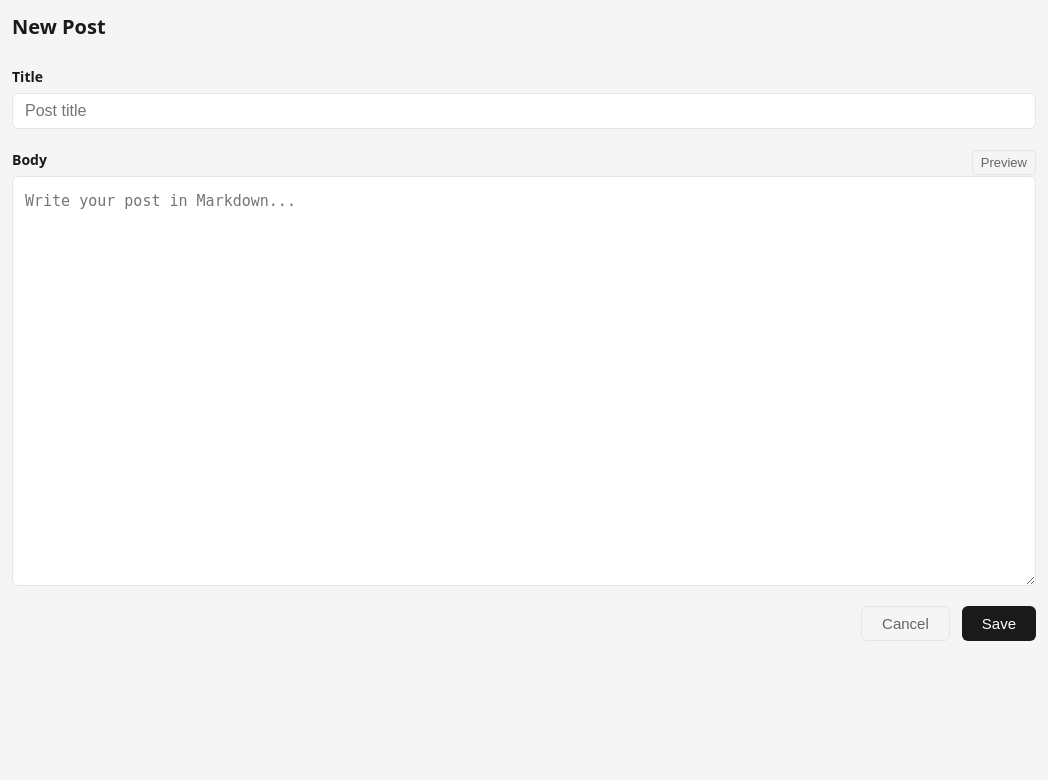
Test case: US-002: Create posts with Markdown editor › US-002-AC02: Editor supports Markdown syntax › shows 'Edit' button when in preview mode
Click the button "Preview" at (1004, 162), box x1=972 y1=150 x2=1036 y2=175
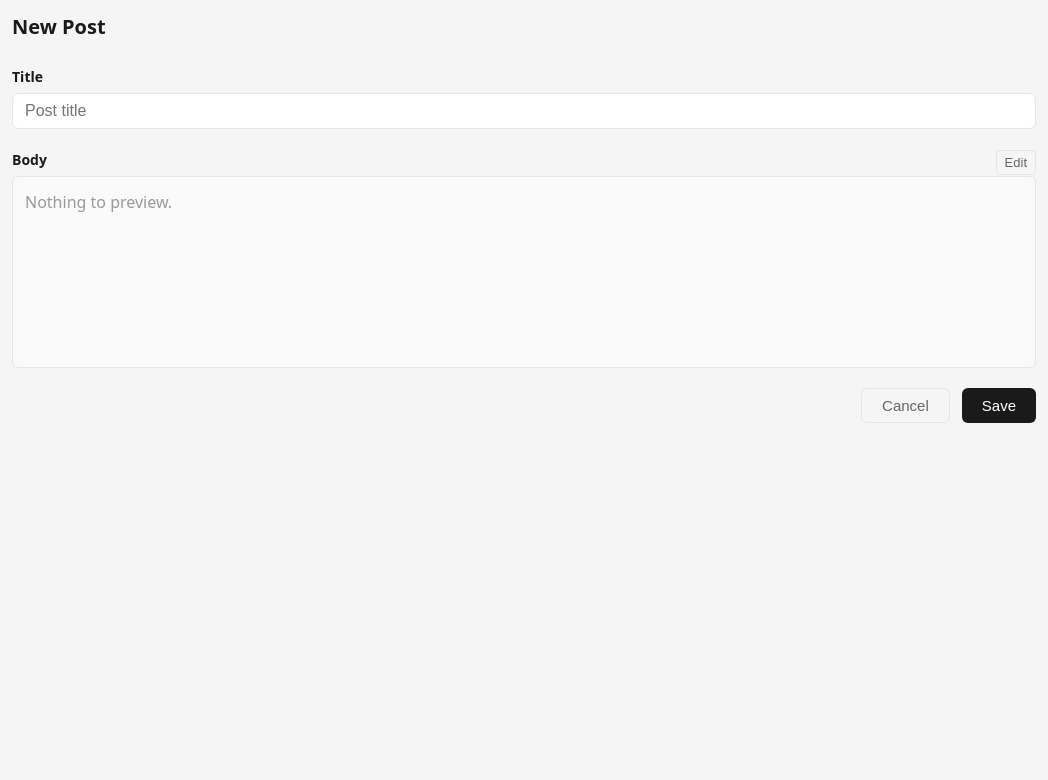
Check: the button "Edit" is shown, box x1=996 y1=150 x2=1036 y2=175
